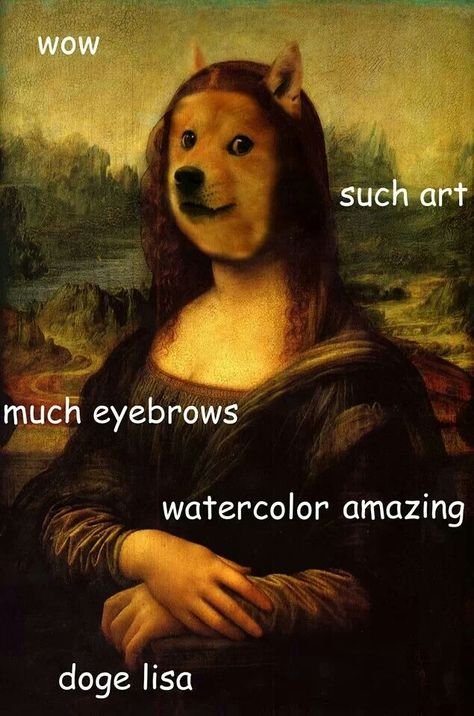doge: (158, 82, 274, 270)
